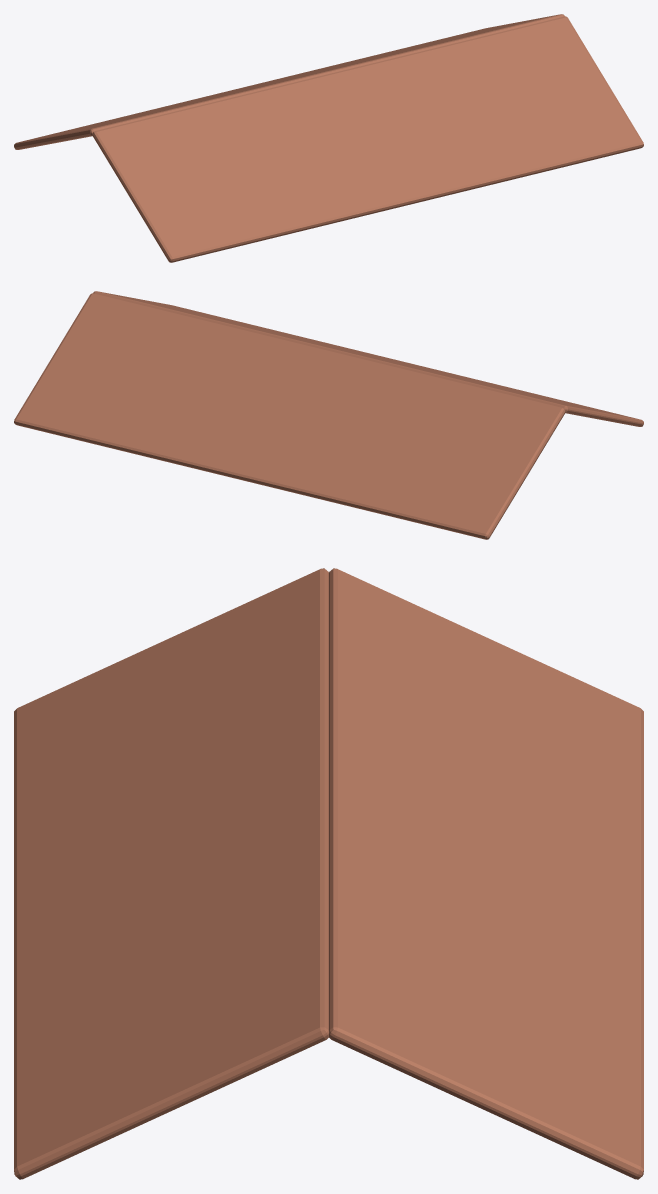
File: SM_StationRoof.fbx
The picture shows the model from 3 angles, top to bottom: view 1: azimuth 30°, elevation 25°; view 2: azimuth 150°, elevation 25°; view 3: azimuth 270°, elevation 25°; orthographic projection. The views are drawn at different scales.
Parts seen in each view (by area): view 1: SM_StationRoof; view 2: SM_StationRoof; view 3: SM_StationRoof.
Boxes of the visible parts, x1,y1,x2,y2 form: SM_StationRoof: [14, 14, 643, 262]; SM_StationRoof: [14, 291, 643, 539]; SM_StationRoof: [14, 568, 643, 1179].
Size of the model in its own units: 1310 by 752 by 200.
